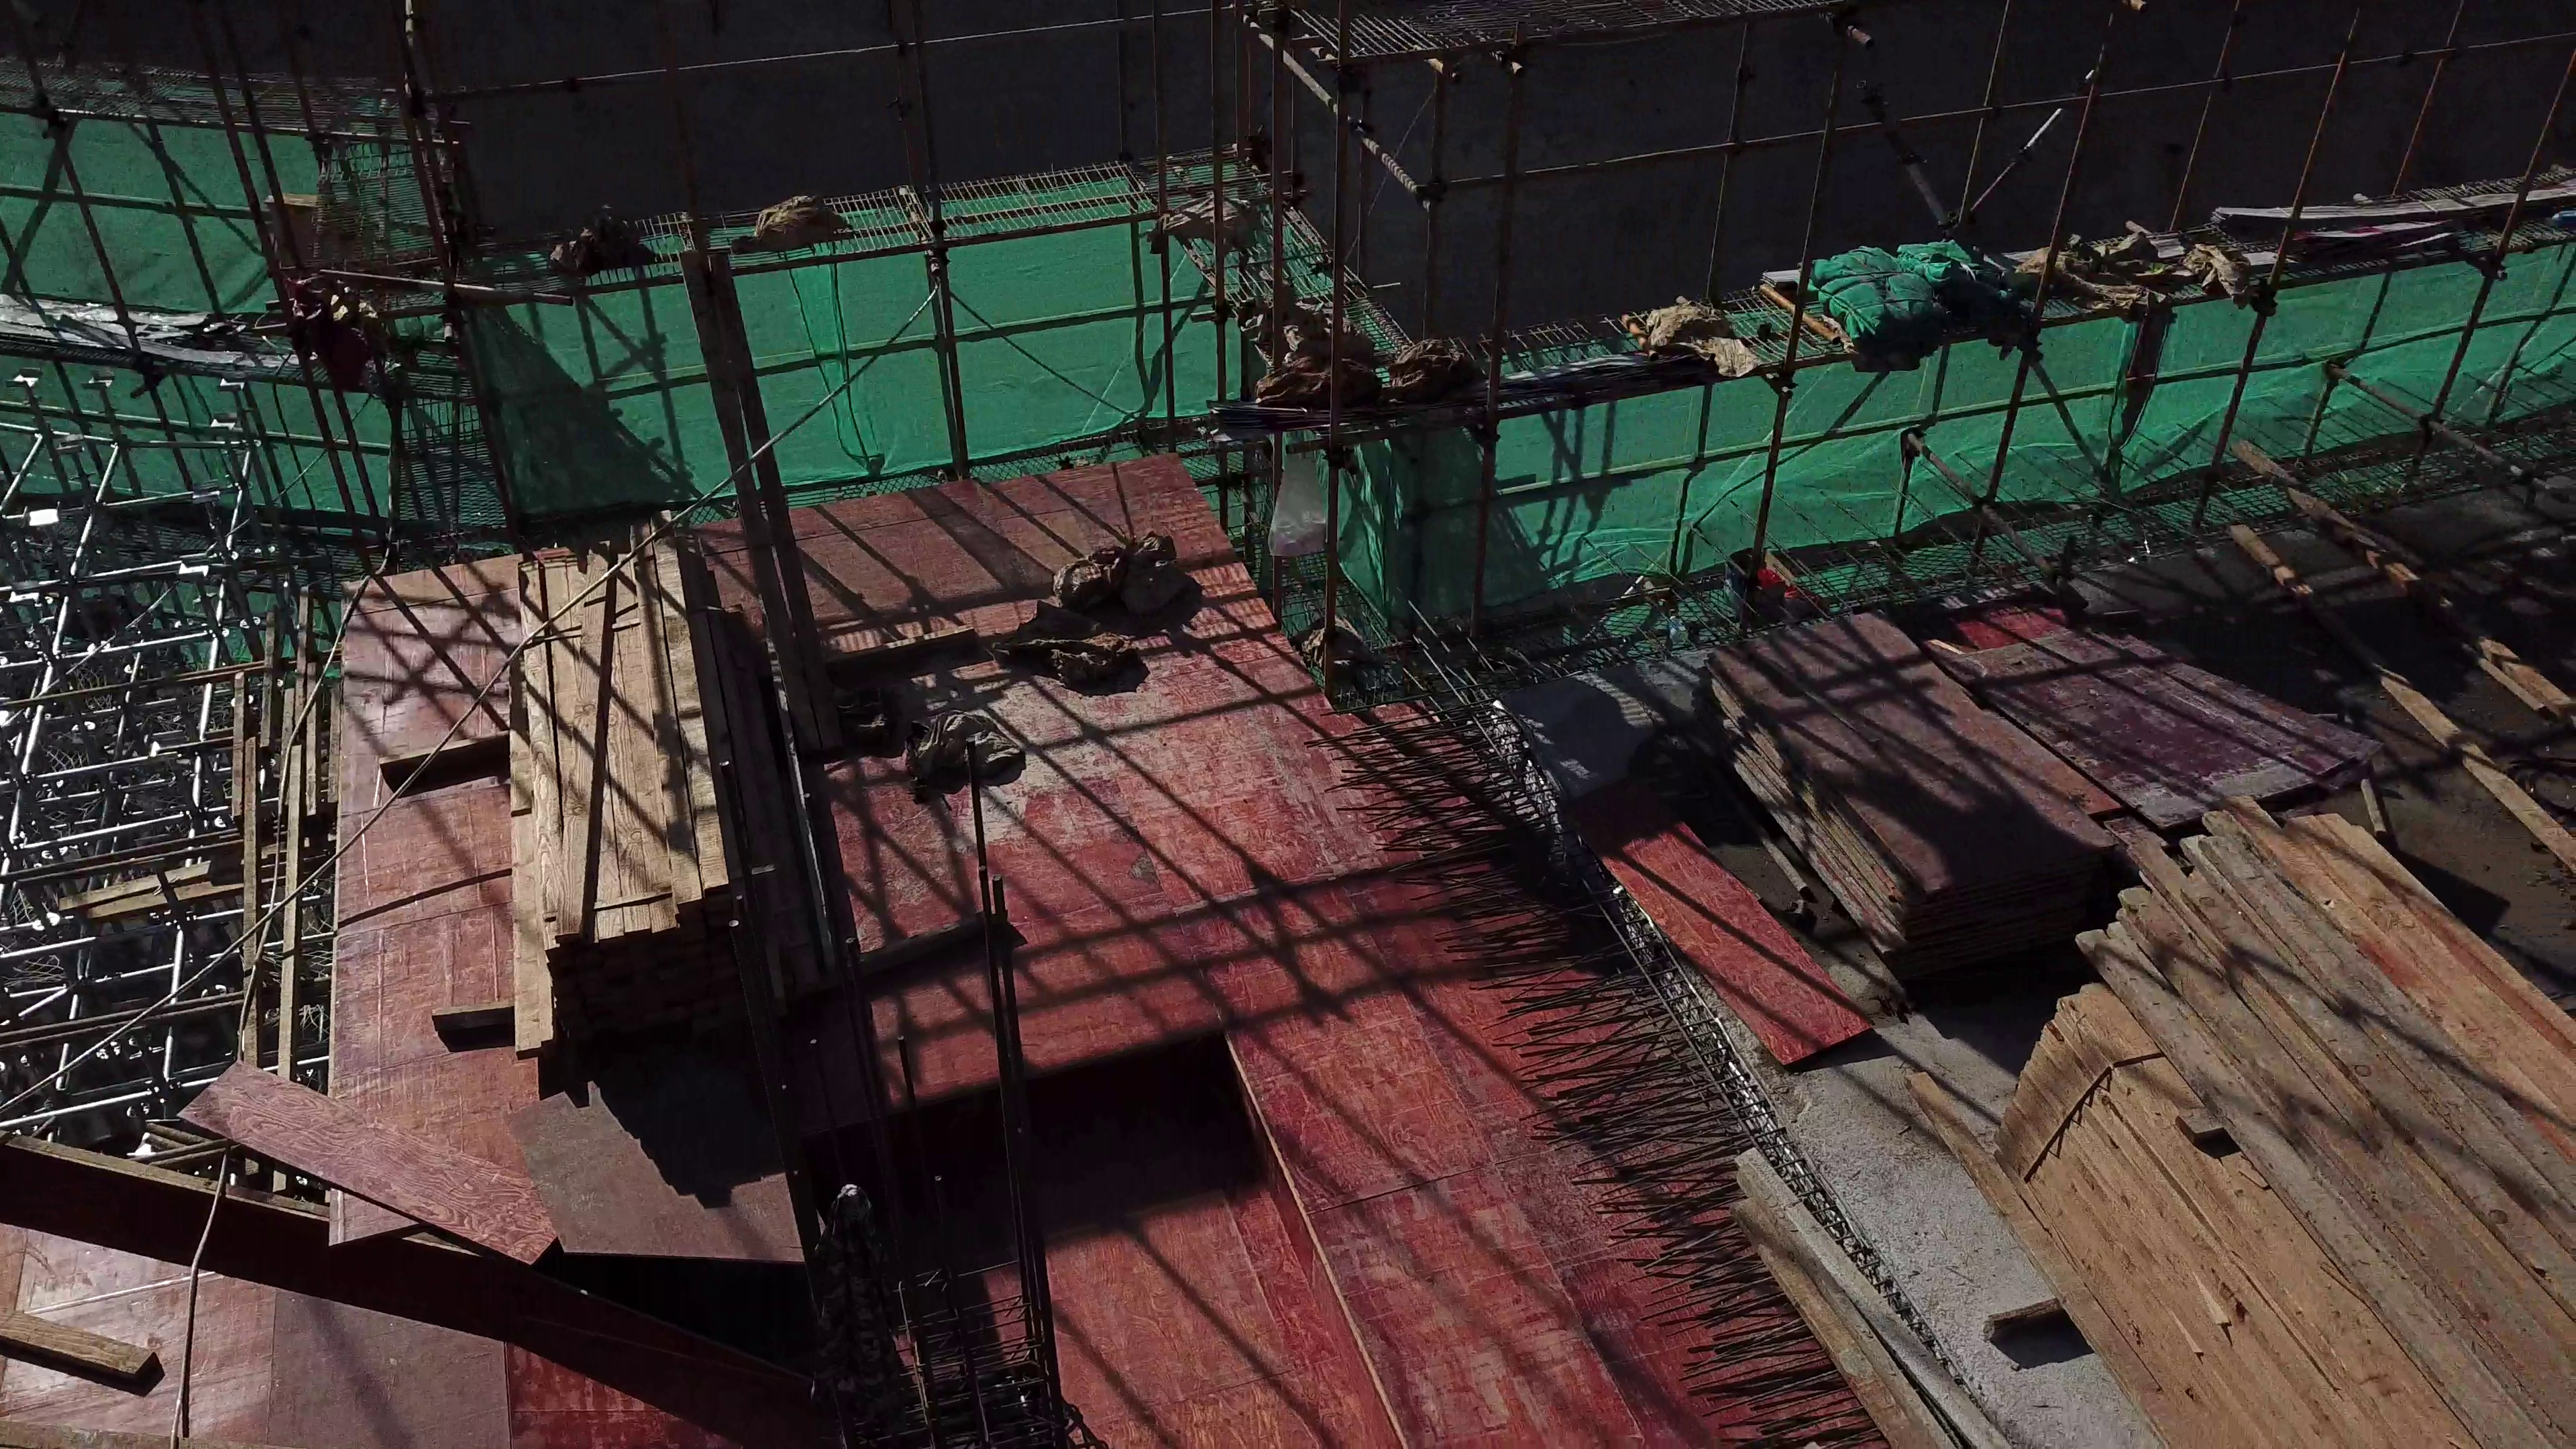board: (1693, 610, 2123, 984)
wood: (1994, 789, 2576, 1444), (501, 518, 842, 1019)
